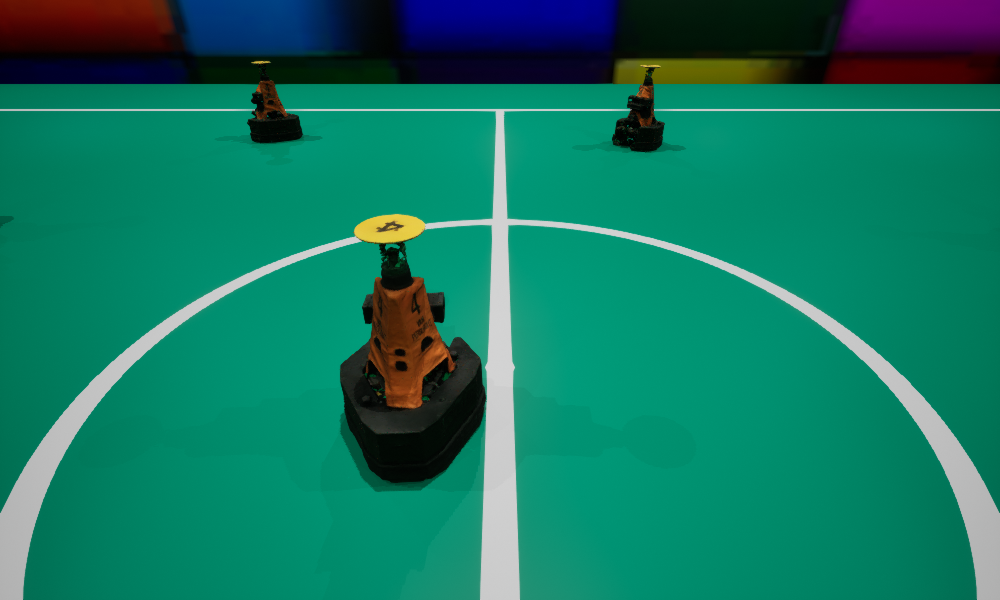o: (340, 214, 485, 482), (247, 61, 302, 142), (612, 65, 664, 150)
